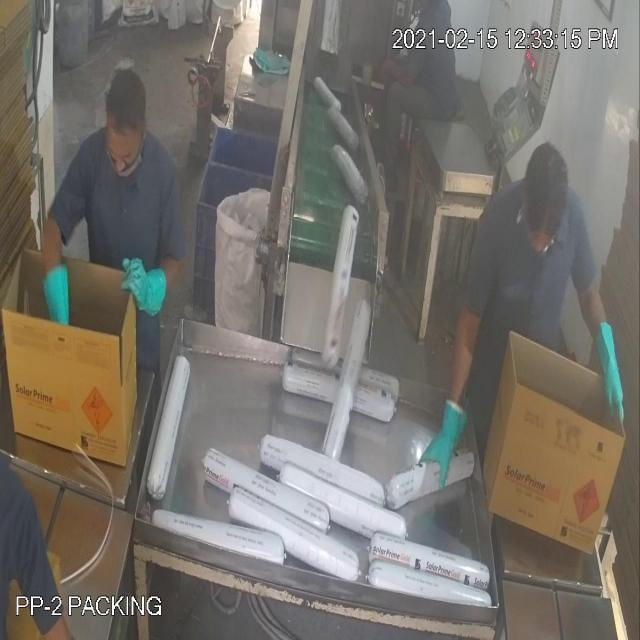Gloves: (40, 42, 594, 396)
